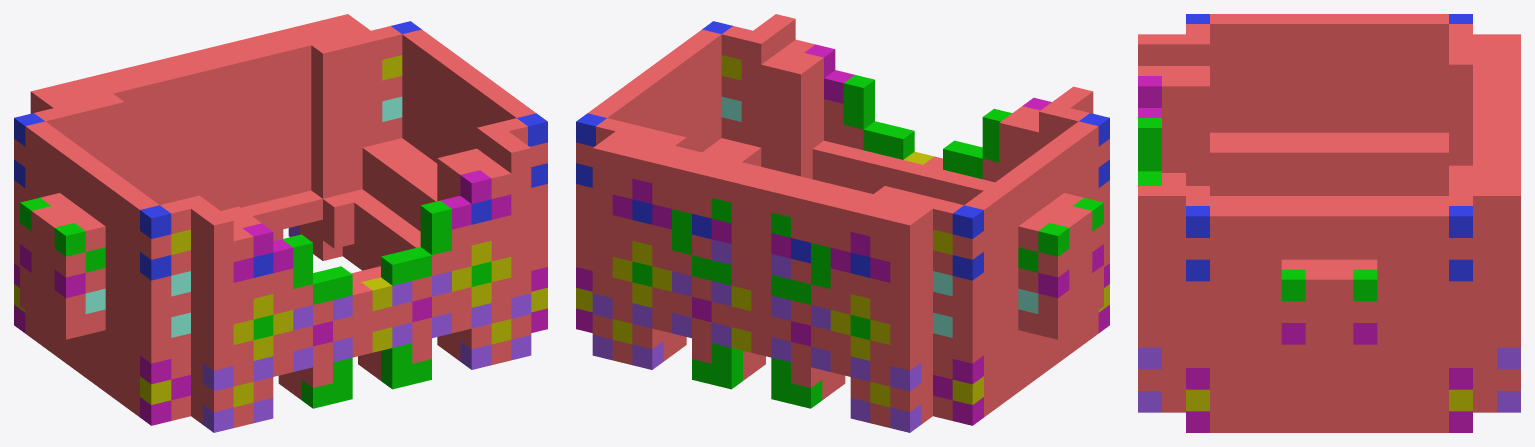
File: 43- red vacationer.fbx
The picture shows the model from 3 angles, left to right: view 1: azimuth 30°, elevation 25°; view 2: azimuth 150°, elevation 25°; view 3: azimuth 270°, elevation 25°; orthographic projection. The views are drawn at different scales.
Visible parts, largest first — view 1: 114, 114.1, Saleevs_R, Saleevs_R_1; view 2: 114, 114.1, Saleevs_R, Saleevs_R_1; view 3: 114, Saleevs_L, 114.1, Saleevs_L_1.
Boxes of the visible parts, x1,y1,x2,y2 form: 114: (14,14,547,432); 114.1: (14,55,547,425); Saleevs_R: (20,193,105,339); Saleevs_R_1: (20,244,105,313); 114: (576,14,1109,432); 114.1: (576,44,1109,425); Saleevs_R: (1018,193,1103,339); Saleevs_R_1: (1018,244,1103,313); 114: (1138,14,1520,432); Saleevs_L: (1281,259,1377,388); 114.1: (1138,76,1472,432); Saleevs_L_1: (1281,323,1377,344).
Bounding box in the file's own units: 240 × 100 × 160.
Materials: 5 (5 with a texture image).
